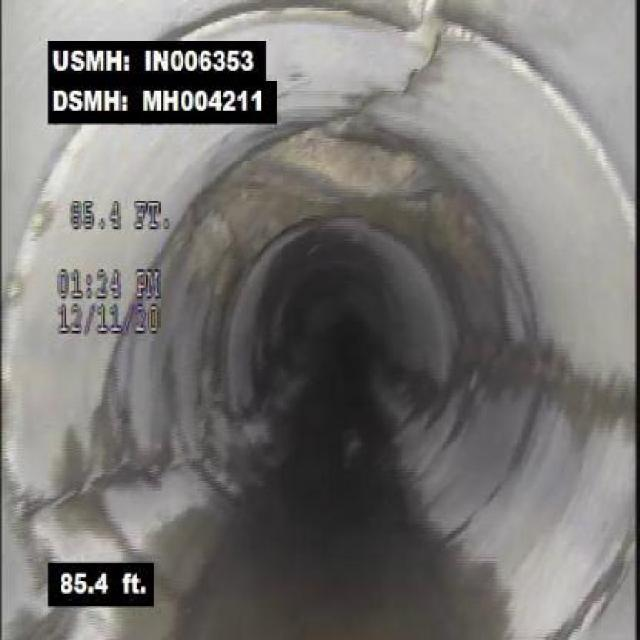Buckling: (354, 0, 460, 114)
Crack: (9, 448, 152, 520), (530, 344, 632, 438)
